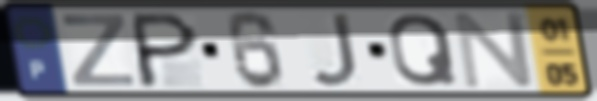6: (224, 8, 287, 93)
J: (307, 10, 362, 90)
N: (450, 10, 538, 91)
P: (132, 9, 202, 91)
Q: (386, 12, 462, 89)
Z: (59, 12, 138, 89)
